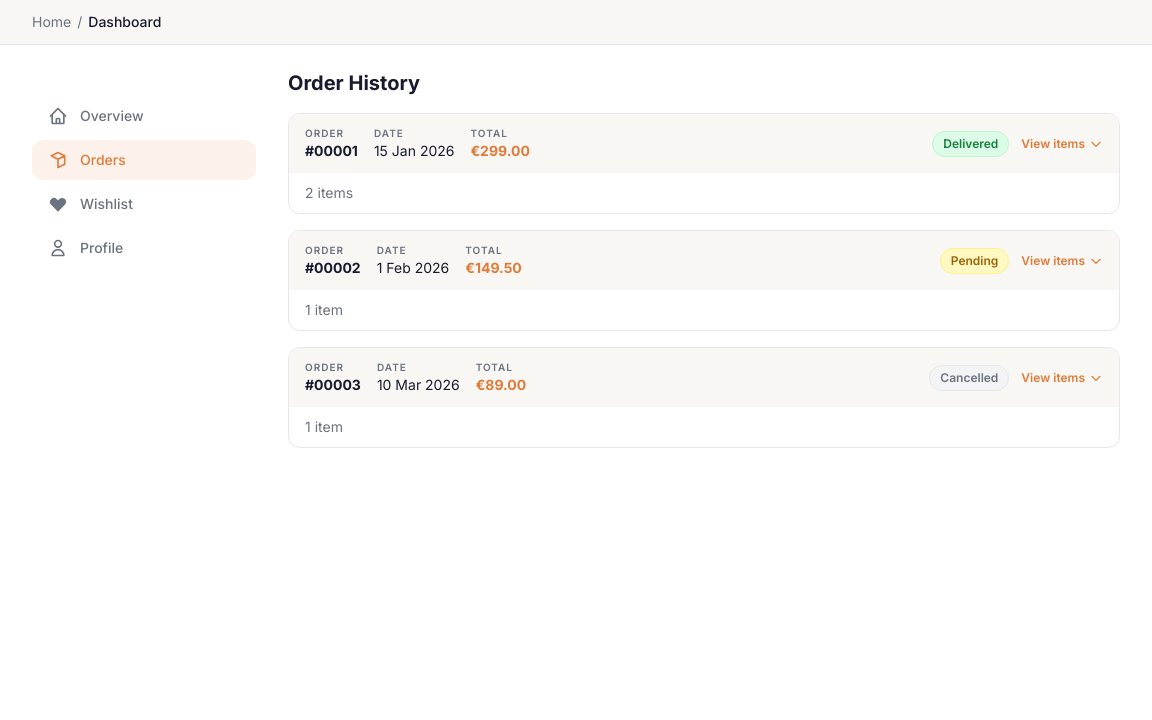
Test case: OrdersTab — expand / collapse › fetches order details and shows item names on expand
The image size is (1152, 720).
Check: the text "#00001" is shown, box [305,141,358,161]
Click the button "View items" next to "delivered": (1062, 144) [1021,136,1103,152]
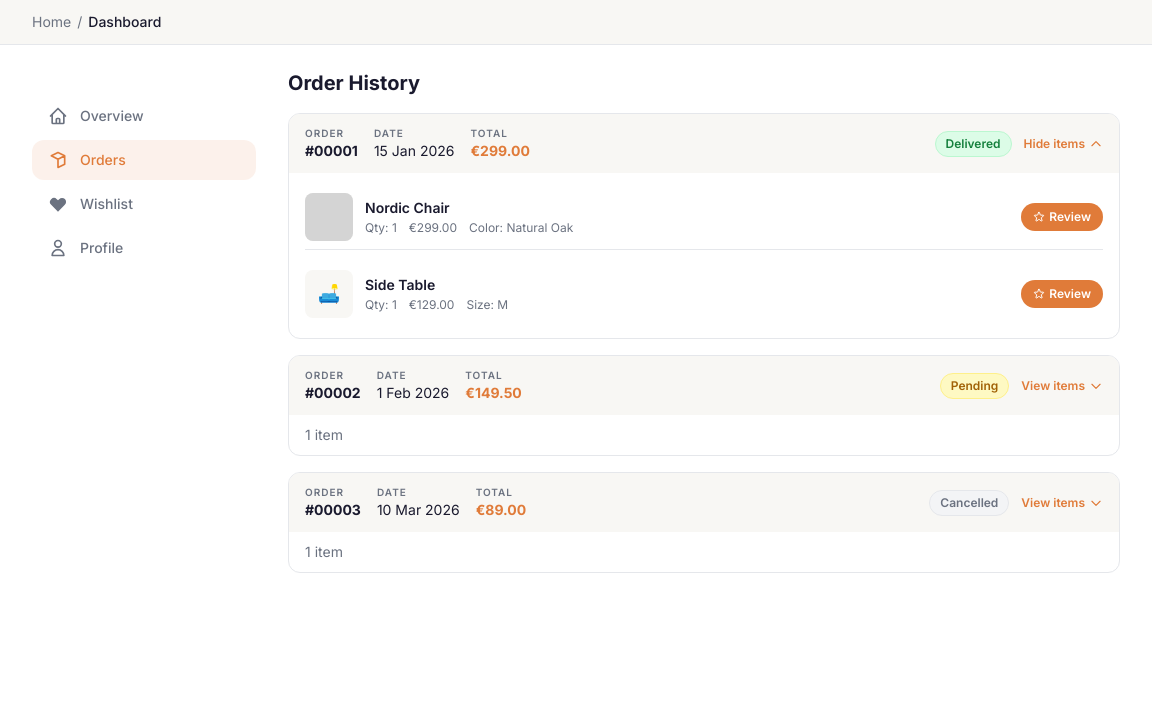
Check: the text "Nordic Chair" is shown, box [365,199,450,216]
Check: the text "Side Table" is shown, box [365,276,435,293]
